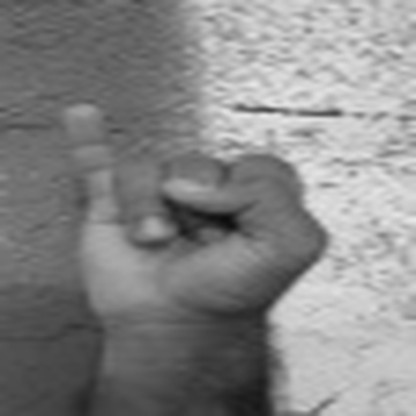i: (44, 96, 354, 318)
